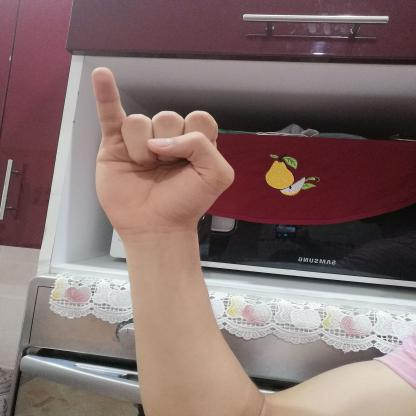MEEM: (66, 60, 251, 241)
